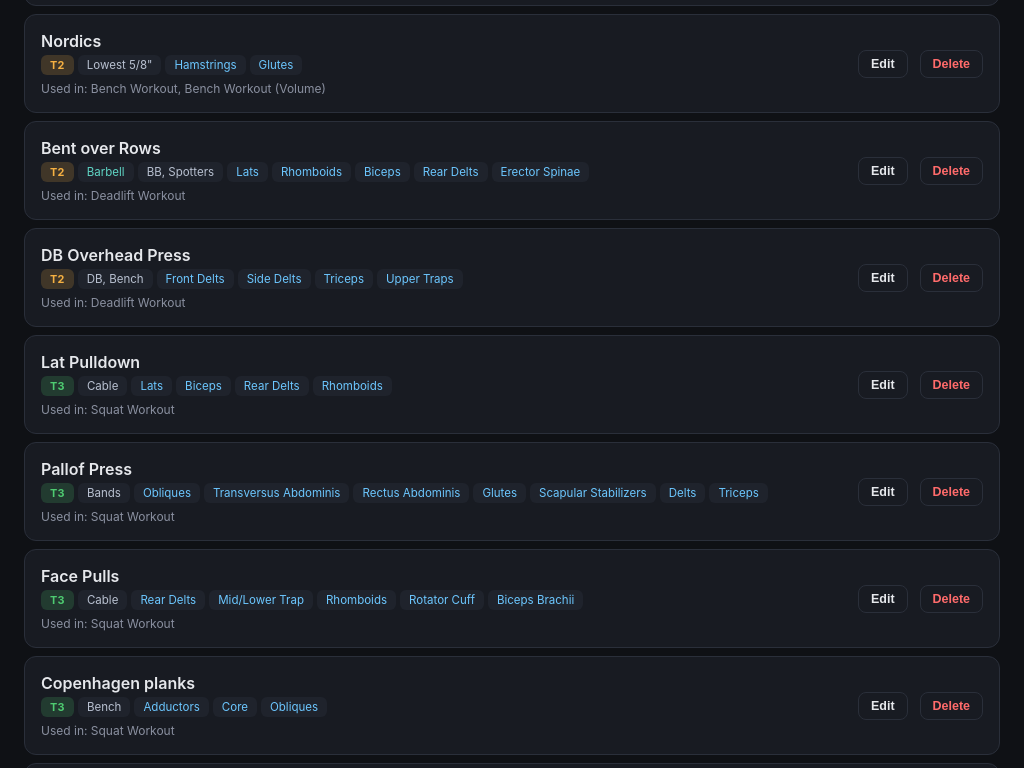
Test: ExercisesPage — equipment dropdown › shows None selected for an exercise the seed leaves unset
(page scrolled)
Expected: the link "Lat Pulldown" is shown, x1=41 y1=352 x2=140 y2=372
Click the 4th button "Edit".
click(883, 385)  # box x1=858 y1=371 x2=908 y2=399
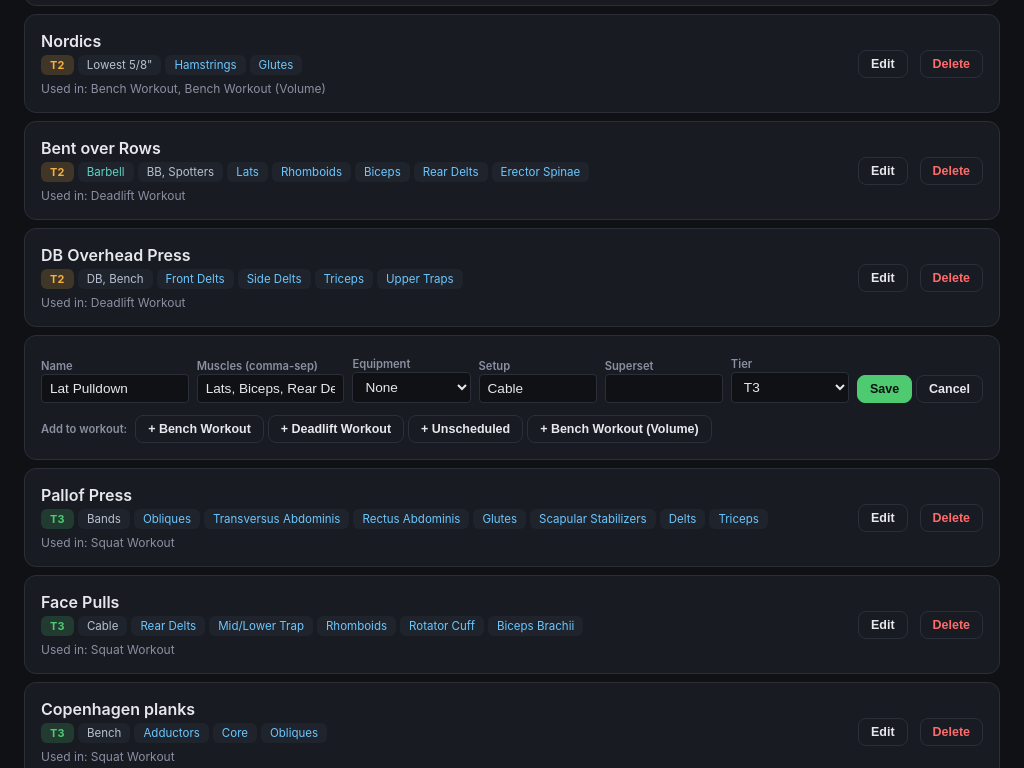
Expected: the dropdown named "Equipment" shows "None", x1=352 y1=372 x2=470 y2=404
